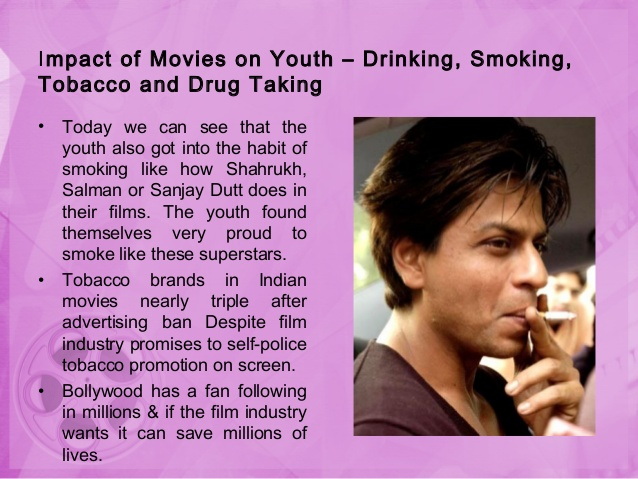cigarette: (513, 292, 587, 339)
